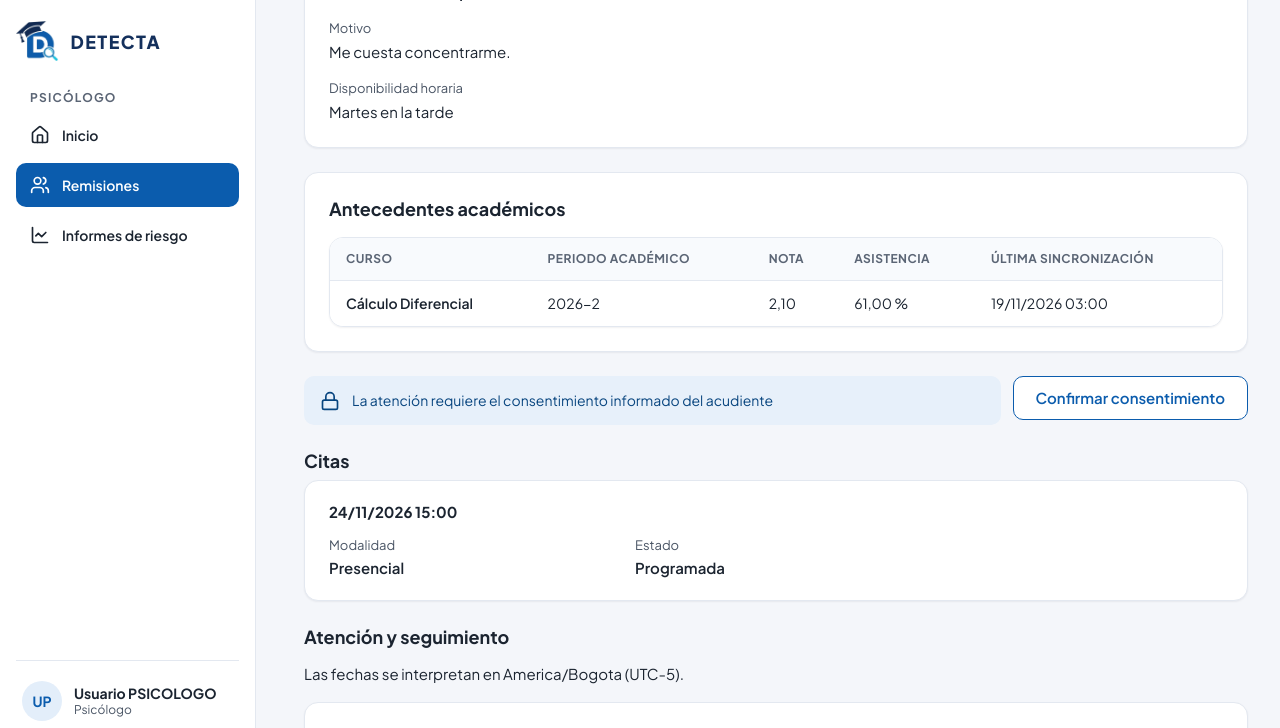
Test case: Consentimiento: confirmación y error (D7a, §7.6) › al confirmar: se cierra, recarga el caso y el foco pasa al mensaje de confirmación
(page scrolled)
What coordinates should you click on to do the following:
click the button "Confirmar consentimiento"
I would click on:
 (1130, 398)
Its box is [1013,376,1248,420].
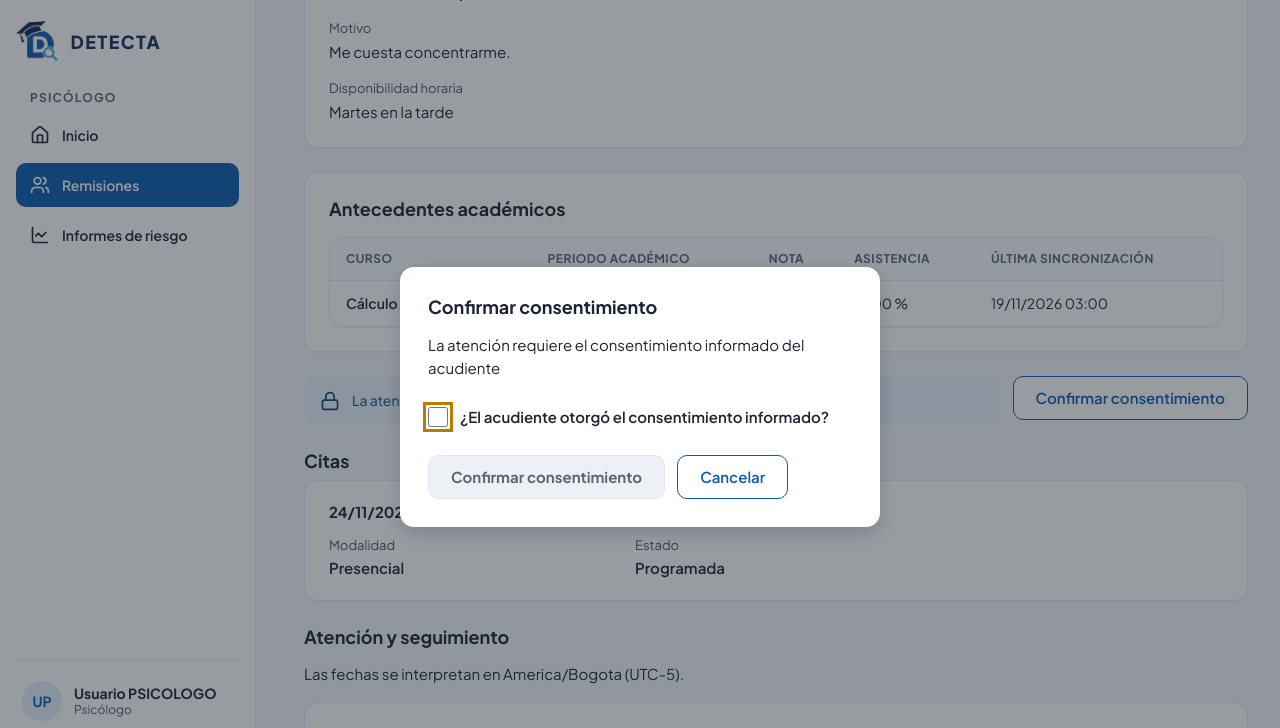
What coordinates should you click on to do the following:
click the checkbox labelled "¿El acudiente otorgó el consentimiento informado?"
I would click on:
 (438, 417)
Its box is [428,407,448,427].
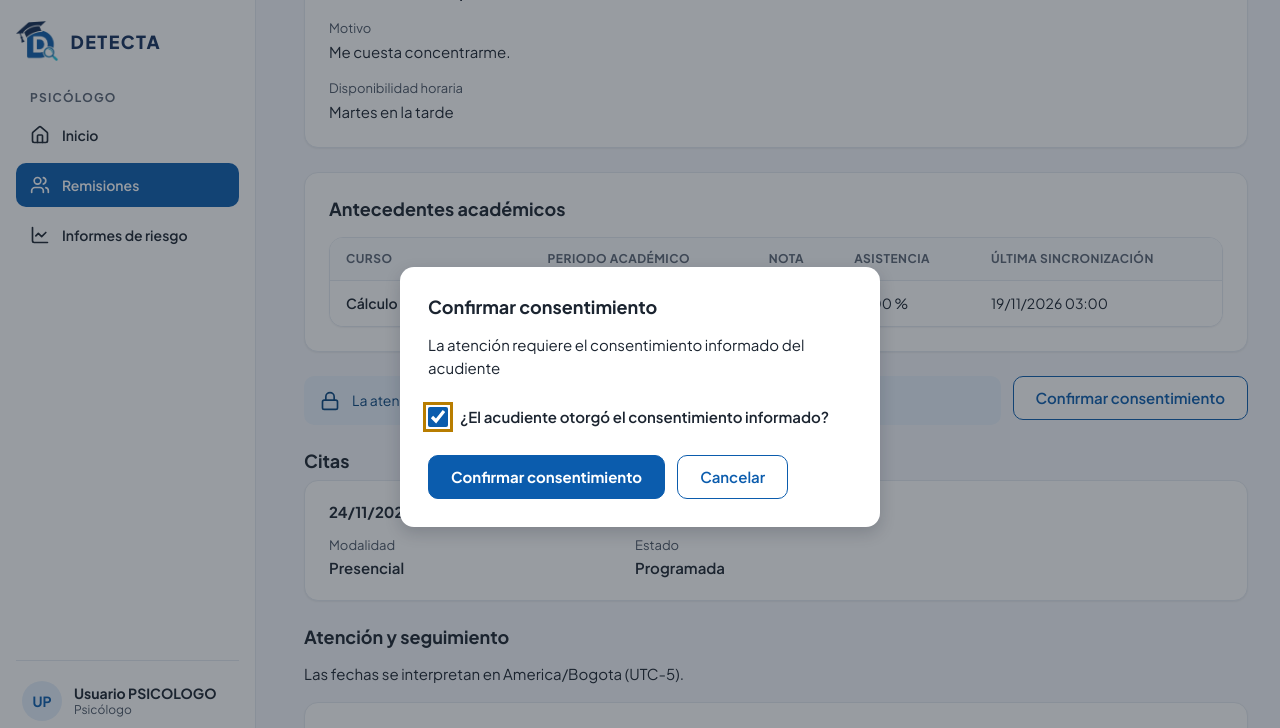
What coordinates should you click on to do the following:
click the 2nd button "Confirmar consentimiento"
I would click on:
 (547, 477)
Its box is [428,455,665,499].
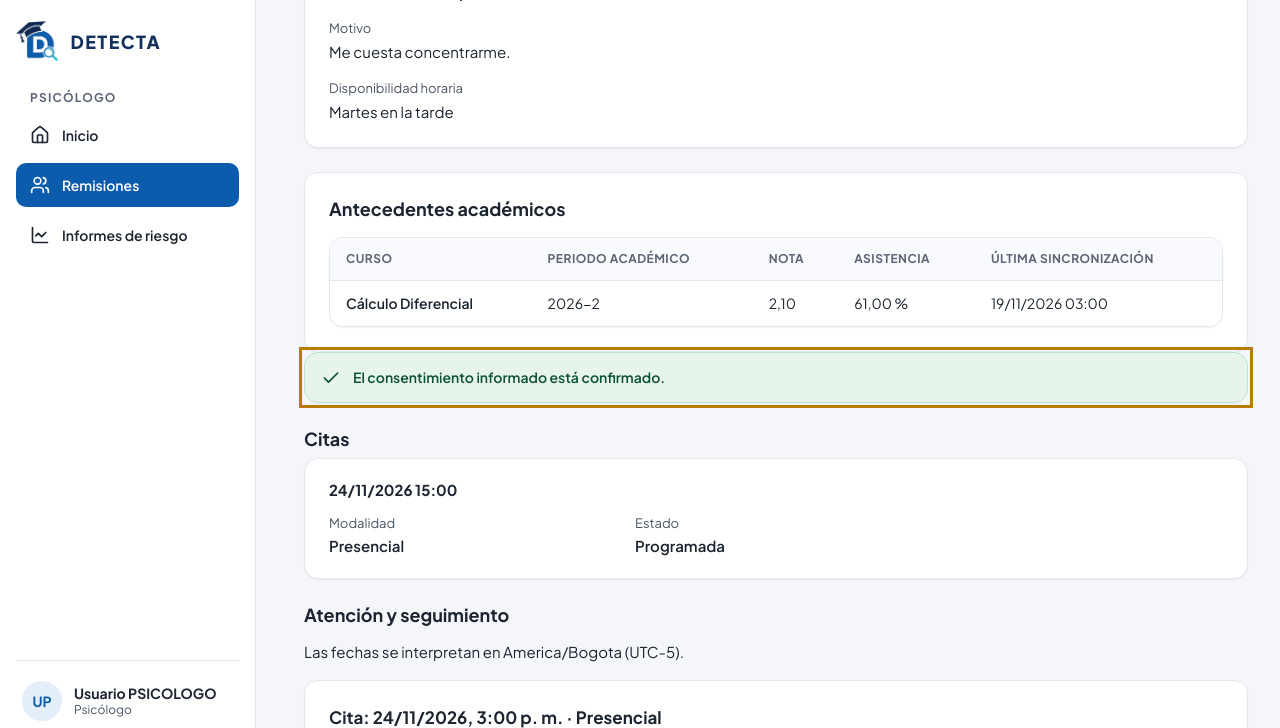
Check: the dialog is gone
Check: the button "Confirmar consentimiento" is gone
